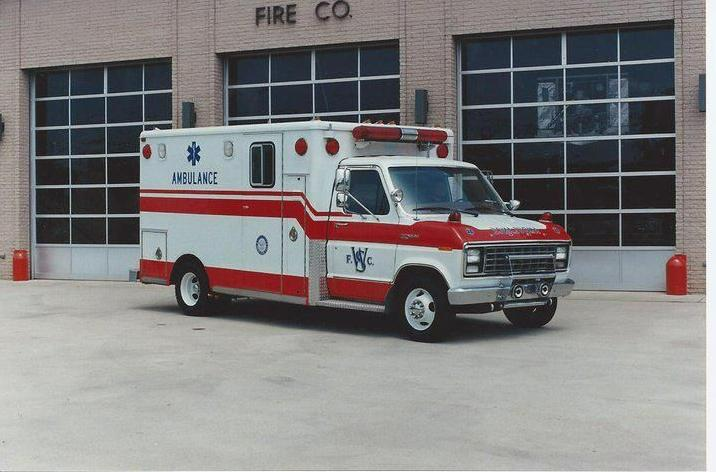ambulance_off: (129, 120, 573, 343)
